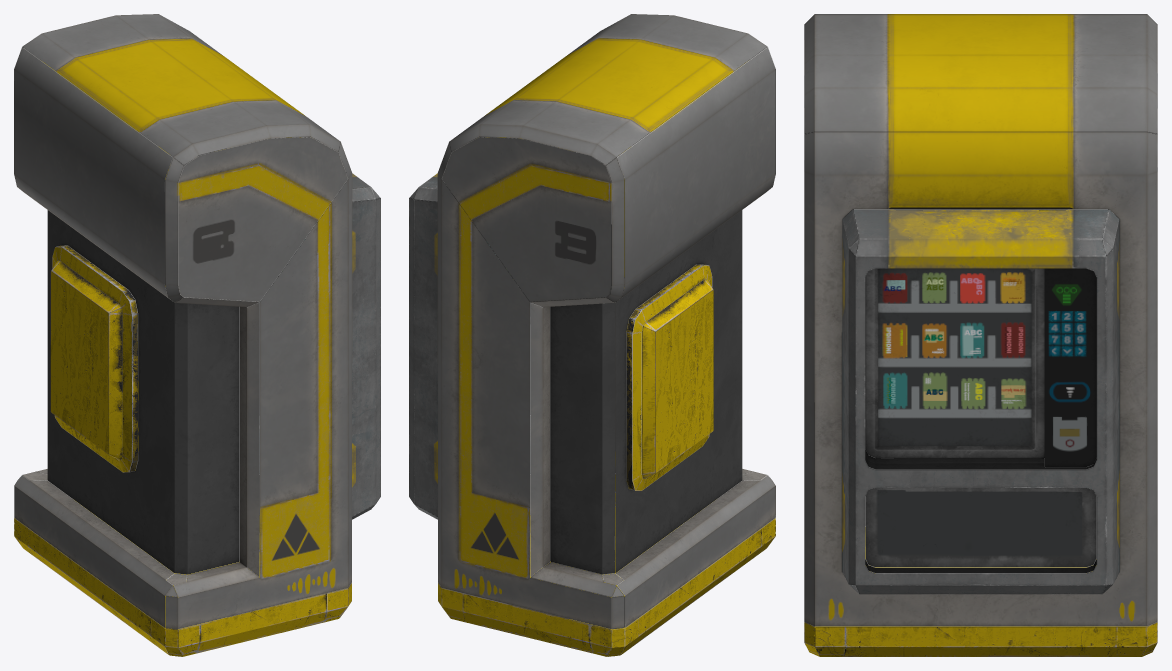
The model's file is VendingMachine gray-yellow.fbx.
The picture shows the model from 3 angles, left to right: view 1: azimuth 30°, elevation 25°; view 2: azimuth 150°, elevation 25°; view 3: azimuth 270°, elevation 25°; orthographic projection. The views are drawn at different scales.
Visible parts, largest first — view 1: VendingMachinegy_low; view 2: VendingMachinegy_low; view 3: VendingMachinegy_low.
Boxes of the visible parts, bbox=[...] form: VendingMachinegy_low: bbox=[14, 14, 380, 656]; VendingMachinegy_low: bbox=[409, 14, 775, 656]; VendingMachinegy_low: bbox=[804, 14, 1157, 656].
Size of the model in its own units: 116 by 241 by 138.
Materials: 1 (1 with a texture image).
